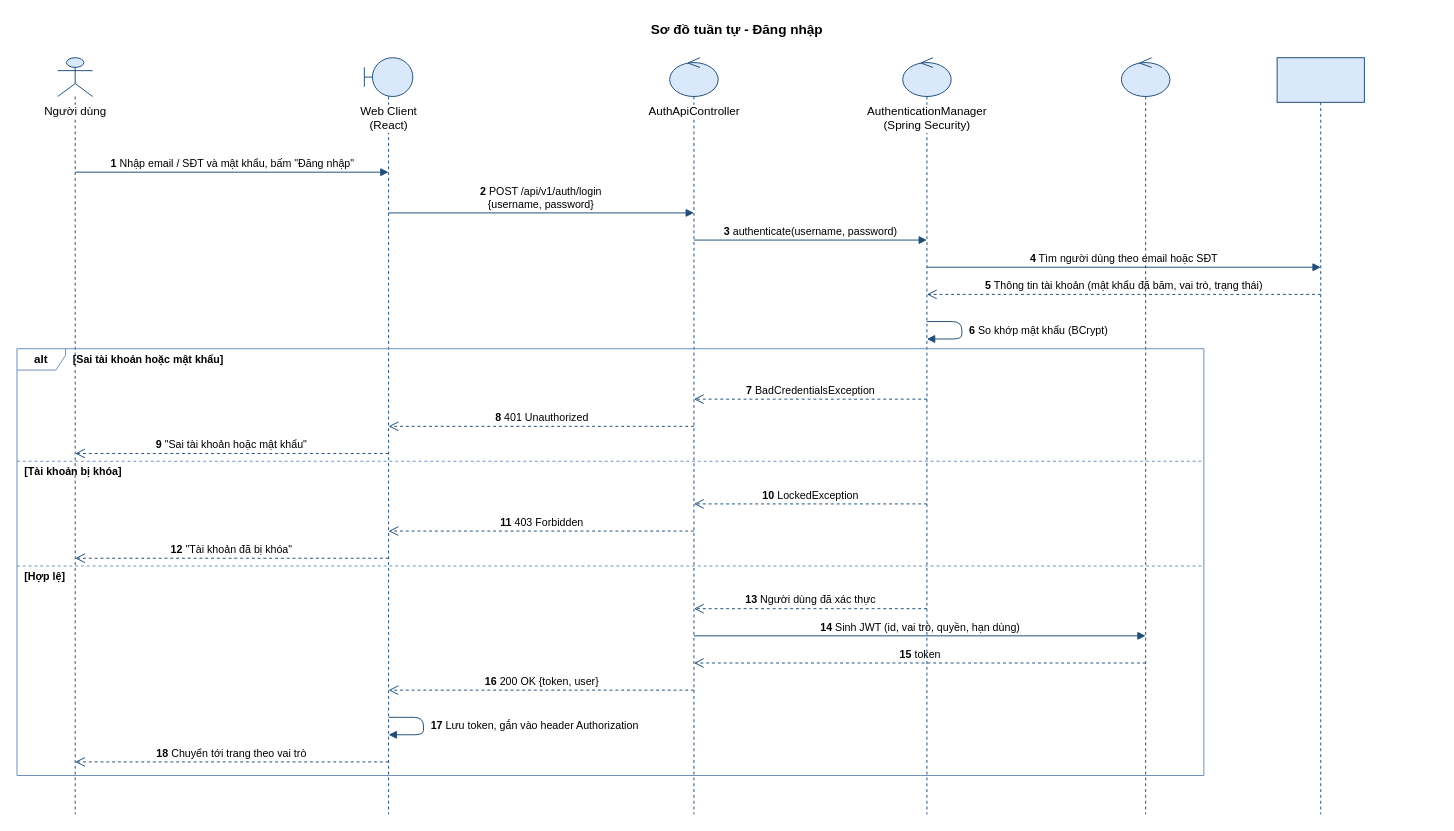
Image size: 1454x831. Some labels were removed from this diagram. The box of each missing label's shape, as (x1, y1, x2, y2) in pixels:
JwtService: (1120, 57, 1170, 814)
«database» CSDL: (1276, 57, 1364, 814)
